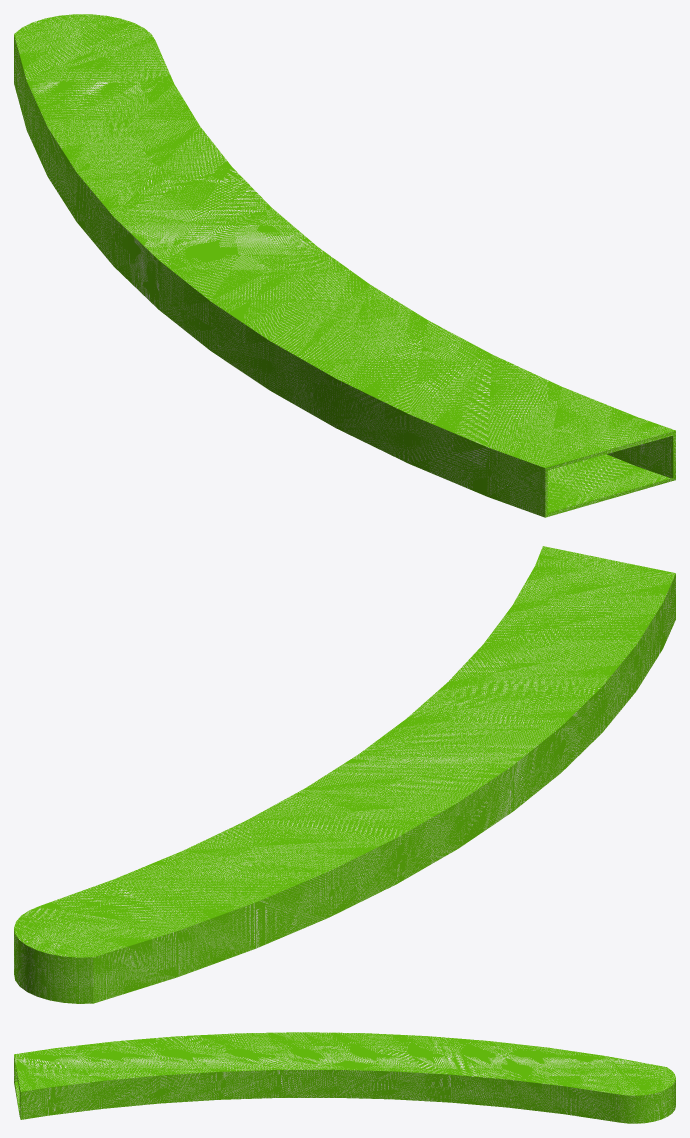
Rendered from original-2.obj.
3 views of the same model, one above another, from view 1: azimuth 30°, elevation 25°; view 2: azimuth 150°, elevation 25°; view 3: azimuth 270°, elevation 25° (orthographic). The views are drawn at different scales.
Parts seen in each view (by area): view 1: Component_4_1/Component_4/mesh1/mesh1-geometry#mesh1-geometry; view 2: Component_4_1/Component_4/mesh1/mesh1-geometry#mesh1-geometry; view 3: Component_4_1/Component_4/mesh1/mesh1-geometry#mesh1-geometry.
Part boxes in pixels (bbox=[...]): Component_4_1/Component_4/mesh1/mesh1-geometry#mesh1-geometry: bbox=[14, 14, 675, 517]; Component_4_1/Component_4/mesh1/mesh1-geometry#mesh1-geometry: bbox=[14, 546, 675, 1003]; Component_4_1/Component_4/mesh1/mesh1-geometry#mesh1-geometry: bbox=[14, 1032, 675, 1123].
Bounding box in the file's own units: 0.2117 × 0.0436 × 0.9329.
